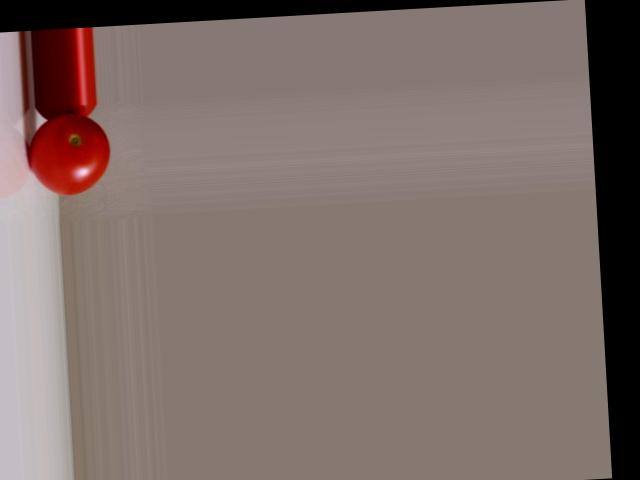tomato: (27, 112, 111, 196)
